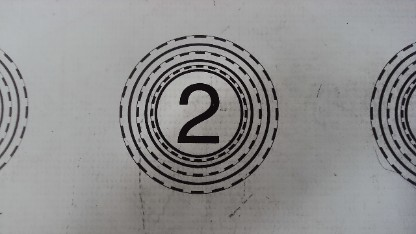2r: (115, 33, 280, 195)
